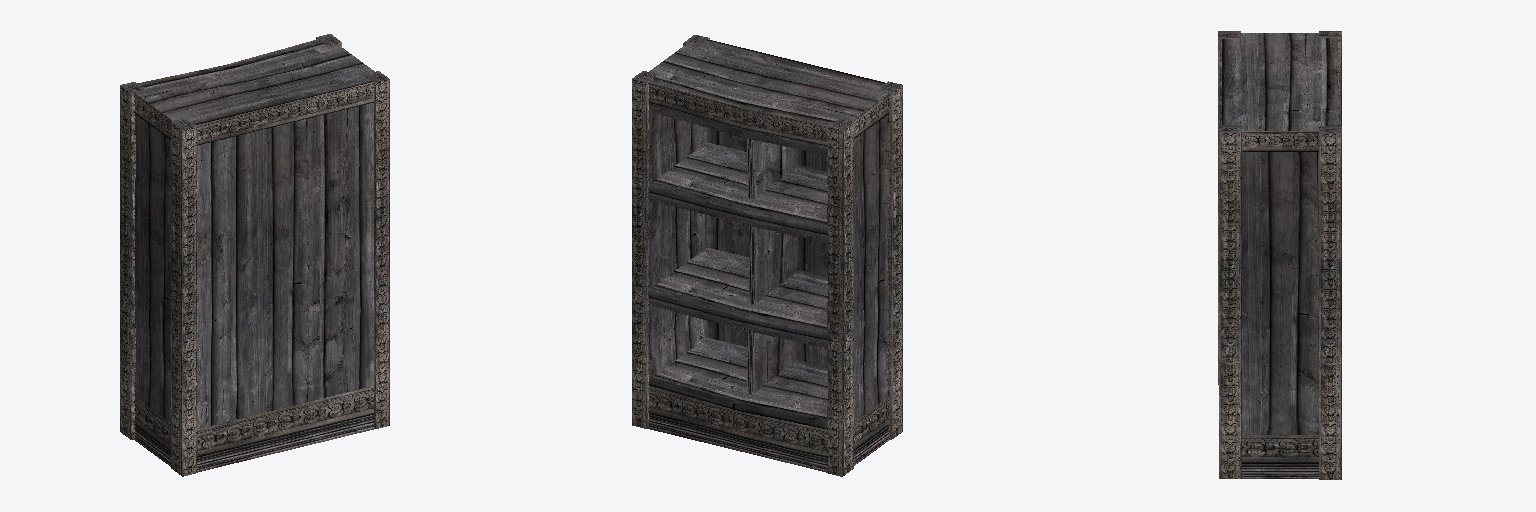
3 views of the same model, side by side, from view 1: azimuth 30°, elevation 25°; view 2: azimuth 150°, elevation 25°; view 3: azimuth 270°, elevation 25° (orthographic).
Visible parts, largest first — view 1: Default_Layer; view 2: Default_Layer; view 3: Default_Layer.
Boxes of the visible parts, x1=… form: Default_Layer: x1=120, y1=34, x2=389, y2=476; Default_Layer: x1=632, y1=35, x2=902, y2=476; Default_Layer: x1=1218, y1=31, x2=1341, y2=479.
Bounding box in the file's own units: 3.19 × 5.03 × 1.62.
1 materials, 1 textured.